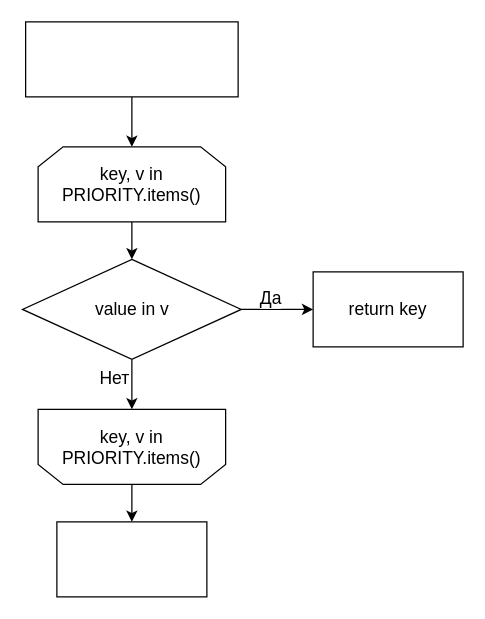
Some shapes in this 485 by 619 pixel diagram are drawn without their labels. Each missing label, with the box of its shape:
priority_search(value): (24, 21, 238, 97)
return -1: (56, 521, 207, 597)
